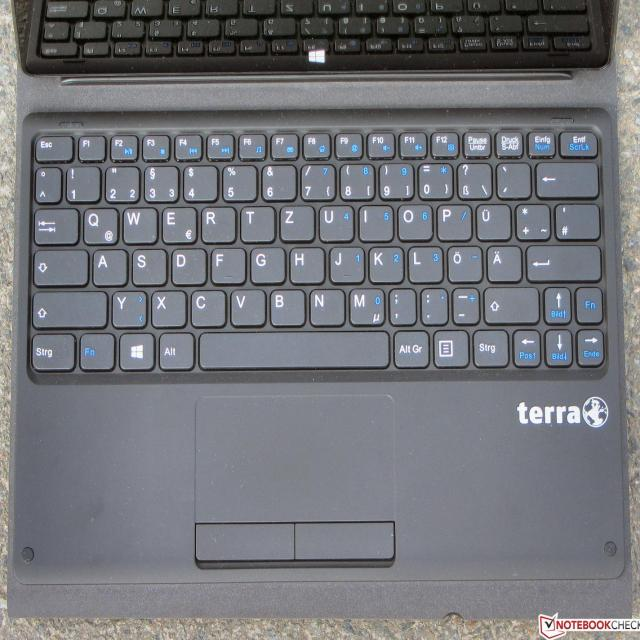0: (416, 160, 453, 198)
1: (64, 163, 100, 200)
2: (103, 163, 139, 201)
3: (142, 162, 178, 200)
4: (181, 161, 216, 199)
5: (220, 161, 255, 199)
6: (260, 162, 296, 199)
7: (299, 161, 334, 199)
8: (338, 161, 374, 198)
9: (377, 161, 414, 199)
a: (90, 246, 126, 284)
accent: (494, 159, 529, 196)
ae: (484, 243, 520, 281)
alt-left: (155, 329, 193, 368)
altgr-right: (391, 327, 428, 366)
b: (267, 286, 304, 325)
c: (188, 286, 224, 325)
caret: (33, 164, 61, 201)
comma: (387, 285, 415, 323)
d: (169, 245, 205, 283)
del: (534, 158, 598, 196)
e: (159, 204, 196, 242)
enter: (523, 241, 600, 279)
f: (208, 245, 244, 283)
g: (247, 243, 284, 282)
h: (287, 244, 323, 282)
hash: (553, 200, 599, 238)
i: (357, 202, 393, 240)
j: (327, 244, 363, 282)
k: (367, 243, 403, 281)
keyboard: (16, 108, 612, 381)
l: (406, 243, 442, 281)
m: (346, 285, 383, 324)
minus: (450, 285, 479, 323)
n: (307, 285, 344, 324)
o: (395, 201, 431, 239)
oe: (445, 243, 481, 282)
p: (435, 201, 471, 239)
plus: (513, 200, 549, 238)
point: (419, 285, 447, 323)
q: (81, 205, 118, 243)
r: (199, 203, 235, 241)
s: (130, 246, 166, 284)
shift-left: (30, 287, 107, 326)
shift-lock: (31, 246, 87, 284)
shift-right: (482, 283, 537, 322)
space: (195, 327, 388, 367)
ss: (455, 160, 491, 197)
strg-left: (27, 330, 74, 369)
strg-right: (470, 326, 508, 365)
t: (238, 203, 273, 241)
tab: (32, 204, 78, 243)
u: (317, 202, 353, 241)
ue: (473, 201, 510, 239)
v: (228, 285, 265, 324)
w: (120, 204, 156, 242)
x: (149, 287, 185, 325)
y: (110, 288, 146, 326)
z: (277, 202, 313, 240)
